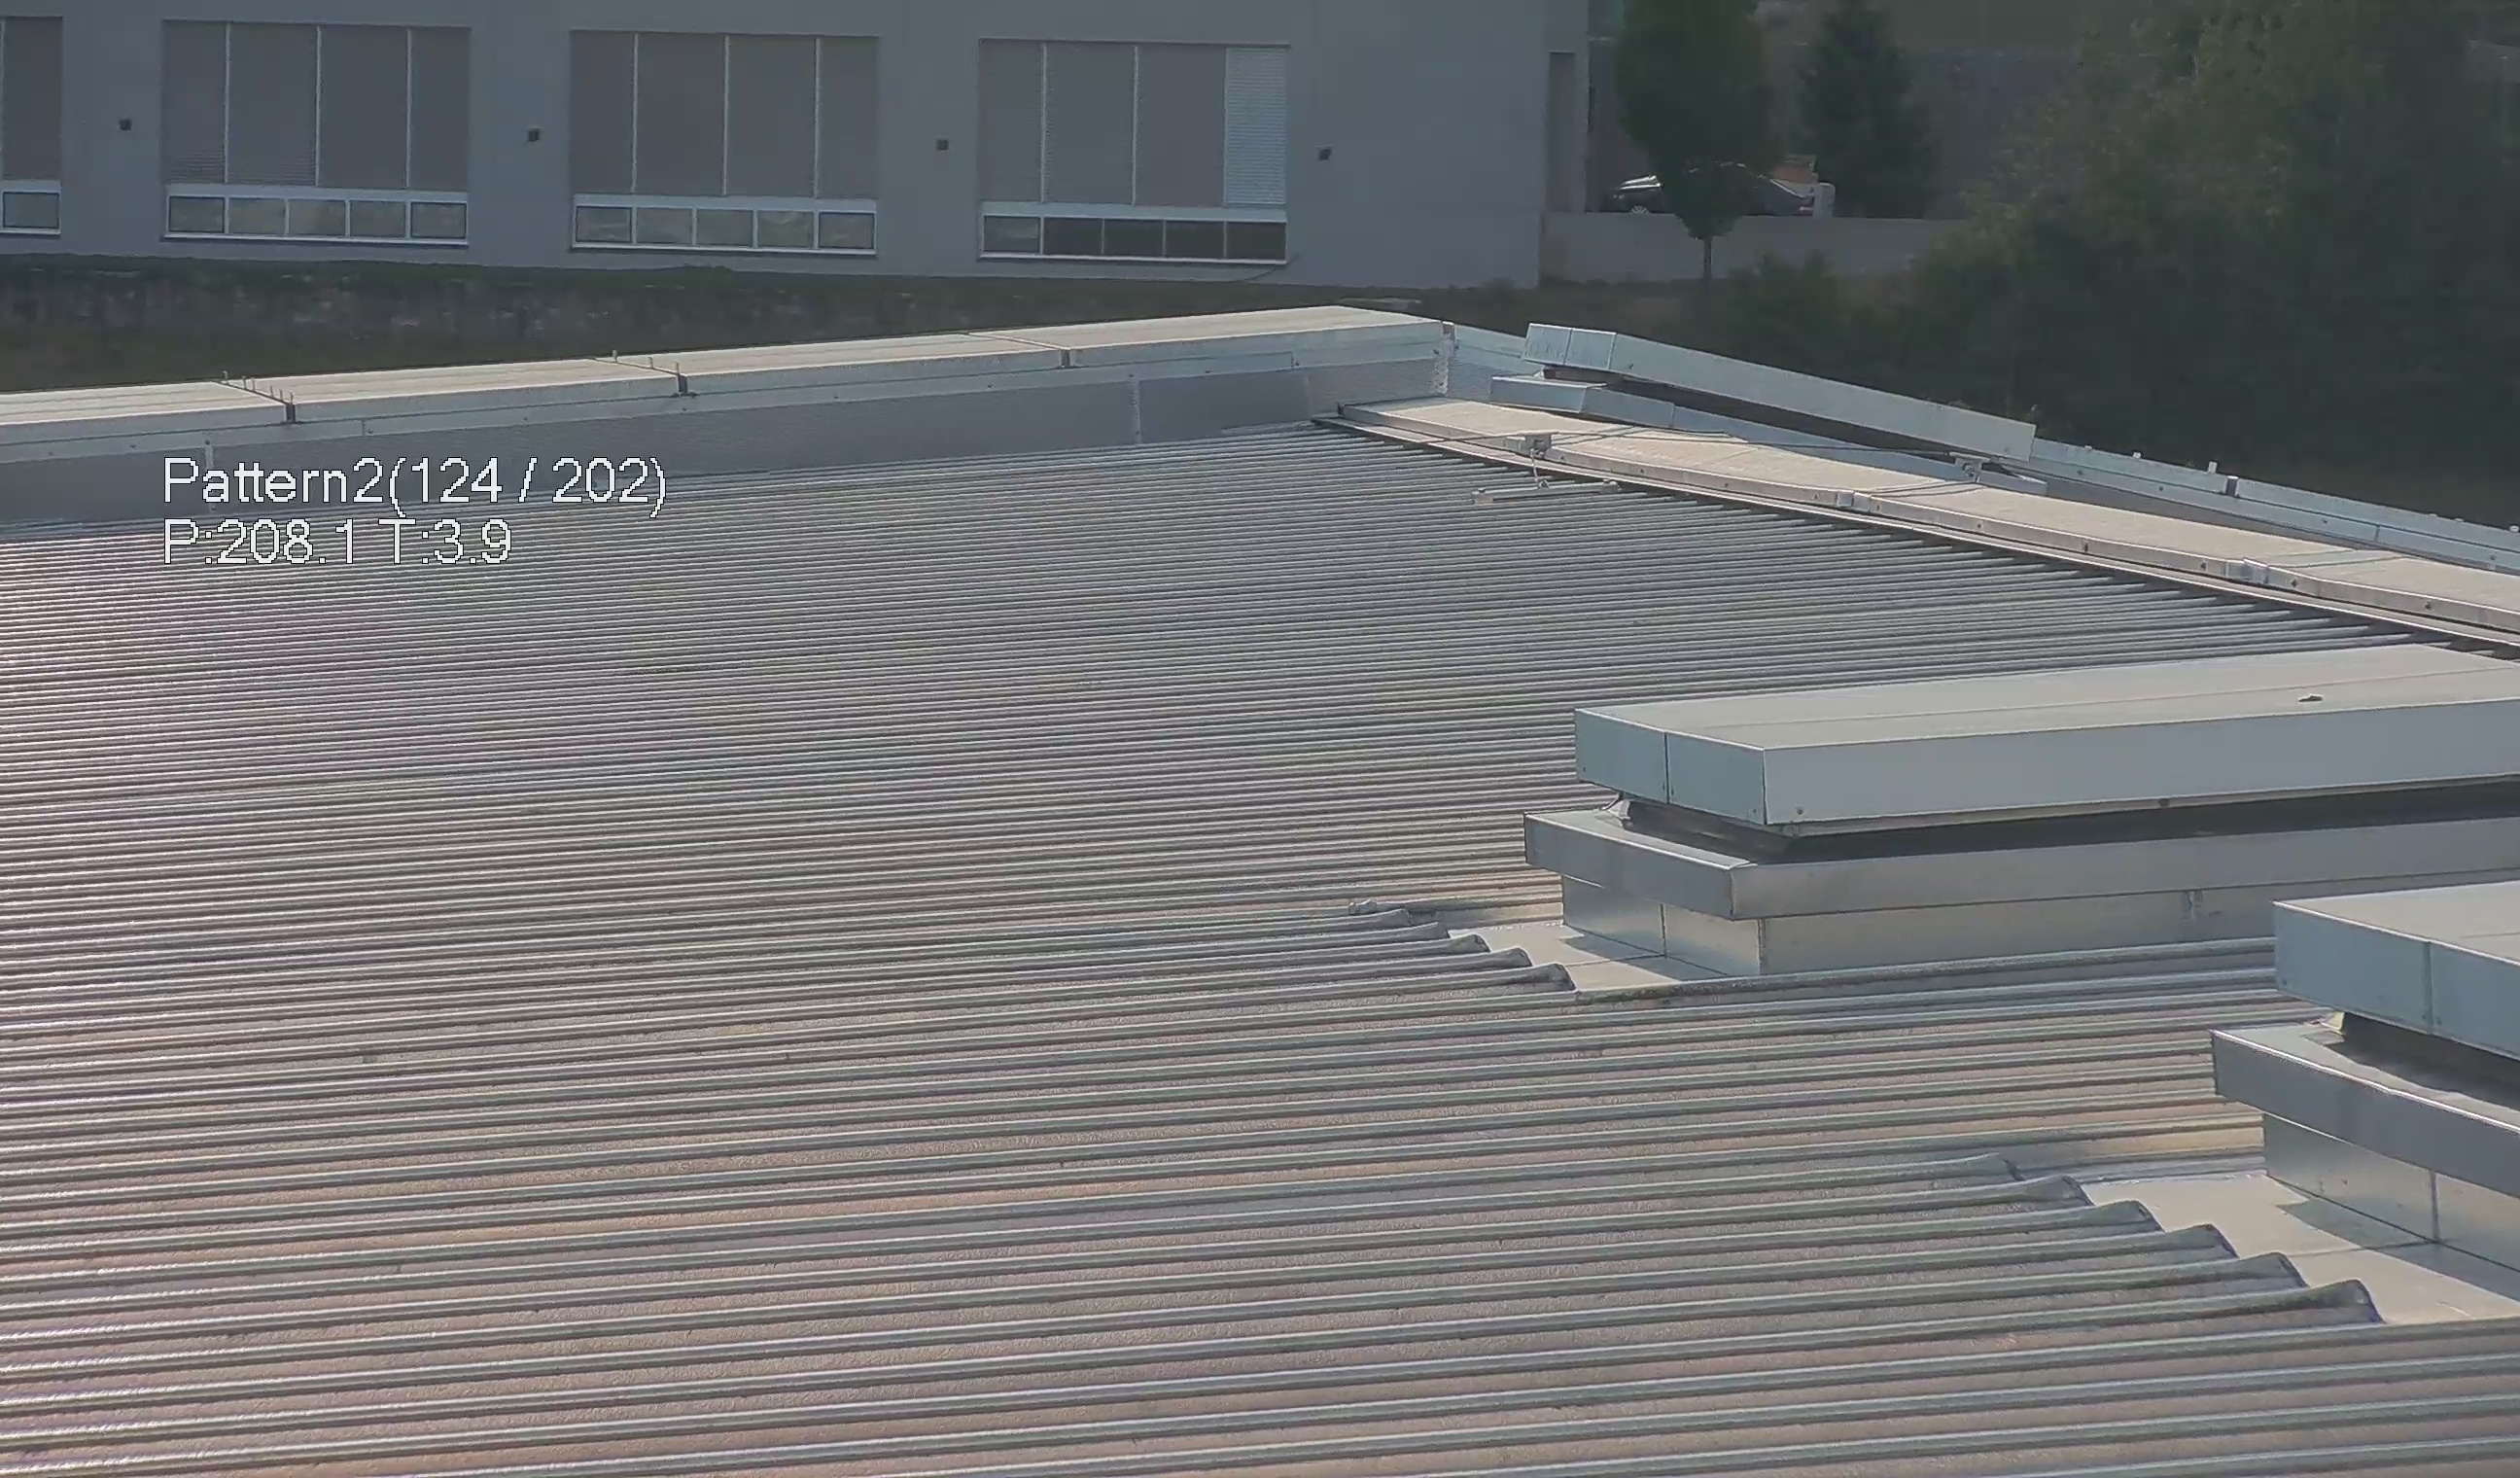Other: (1621, 137, 1846, 271)
